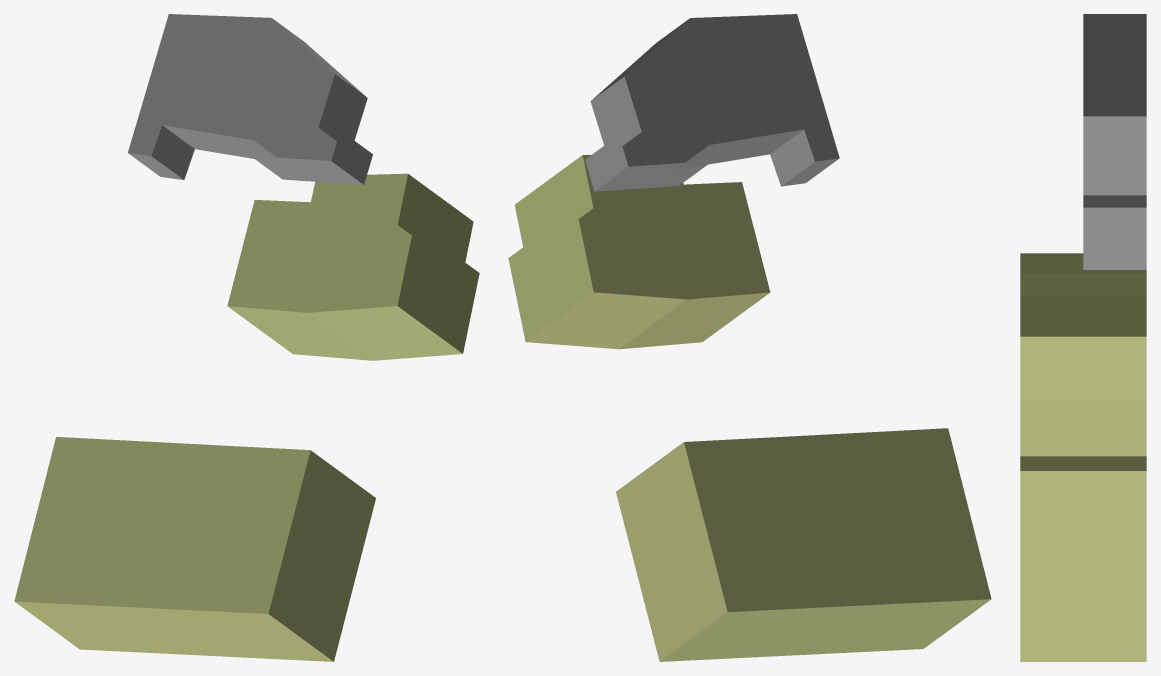
3 renders of one model, left to right at view 1: azimuth 30°, elevation 25°; view 2: azimuth 150°, elevation 25°; view 3: azimuth 270°, elevation 25°, orthographic. The views are drawn at different scales.
Visible parts, largest first — view 1: 0_1_0_0_2_0_1; view 2: 0_1_0_0_2_0_1; view 3: 0_1_0_0_2_0_1.
Part boxes in pixels (bbox=[...]): 0_1_0_0_2_0_1: bbox=[14, 14, 479, 661]; 0_1_0_0_2_0_1: bbox=[508, 14, 991, 661]; 0_1_0_0_2_0_1: bbox=[1020, 14, 1146, 661].
Size of the model in its own units: 21.13 by 31.53 by 6.
